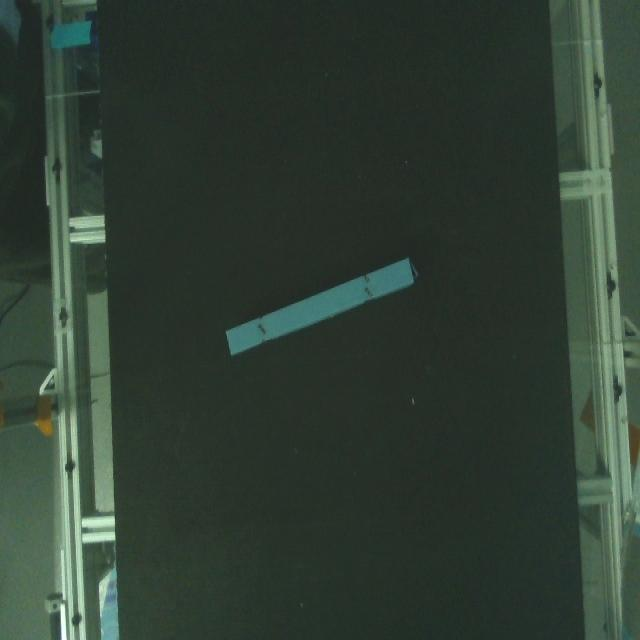paper: (222, 256, 433, 364)
